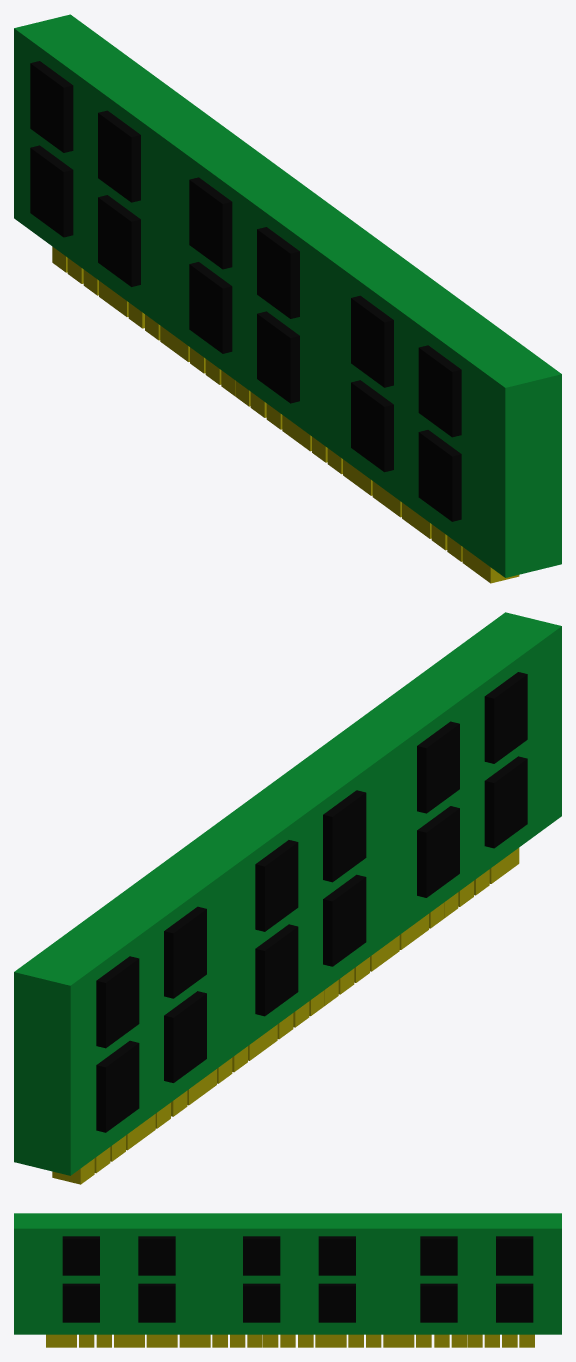
The model's file is CPUblend.gltf.
The picture shows the model from 3 angles, top to bottom: view 1: azimuth 30°, elevation 25°; view 2: azimuth 150°, elevation 25°; view 3: azimuth 270°, elevation 25°; orthographic projection. The views are drawn at different scales.
Visible parts, largest first — view 1: Cube, Cube.035, Cube.001, Cube.034, Cube.038, Cube.027, Cube.039, Cube.037, Cube.040, Cube.041, Cube.028, Cube.036 (+1 smaller); view 2: Cube, Cube.035, Cube.027, Cube.034, Cube.038, Cube.040, Cube.001, Cube.039, Cube.041, Cube.037, Cube.033, Cube.036 (+1 smaller); view 3: Cube, Cube.001, Cube.028, Cube.033, Cube.034, Cube.036, Cube.037, Cube.038, Cube.041, Cube.027, Cube.035, Cube.039 (+30 smaller).
Boxes of the visible parts, x1,y1,x2,y2 form: Cube: [14, 14, 561, 577]; Cube.035: [30, 145, 73, 237]; Cube.001: [418, 345, 461, 437]; Cube.034: [30, 61, 73, 152]; Cube.038: [189, 177, 232, 269]; Cube.027: [418, 430, 461, 521]; Cube.039: [189, 262, 232, 353]; Cube.037: [98, 110, 140, 202]; Cube.040: [257, 311, 299, 403]; Cube.041: [257, 227, 299, 318]; Cube.028: [351, 380, 393, 472]; Cube.036: [98, 195, 140, 286]; Cube: [14, 612, 561, 1175]; Cube.035: [96, 1040, 139, 1132]; Cube.027: [484, 756, 527, 848]; Cube.034: [96, 956, 139, 1048]; Cube.038: [255, 840, 298, 931]; Cube.040: [323, 874, 366, 966]; Cube.001: [484, 672, 527, 763]; Cube.039: [255, 924, 298, 1016]; Cube.041: [323, 790, 366, 882]; Cube.037: [164, 906, 206, 998]; Cube.033: [417, 721, 459, 813]; Cube.036: [164, 991, 206, 1082]; Cube: [14, 1213, 561, 1334]; Cube.001: [62, 1236, 99, 1275]; Cube.028: [138, 1283, 175, 1322]; Cube.033: [138, 1236, 175, 1275]; Cube.034: [496, 1236, 533, 1275]; Cube.036: [420, 1283, 457, 1322]; Cube.037: [420, 1236, 457, 1275]; Cube.038: [318, 1236, 355, 1275]; Cube.041: [243, 1236, 280, 1275]; Cube.027: [62, 1283, 99, 1322]; Cube.035: [496, 1283, 533, 1322]; Cube.039: [318, 1283, 355, 1322].
Size of the model in its own units: 0.2495 by 0.6865 by 2.78.
